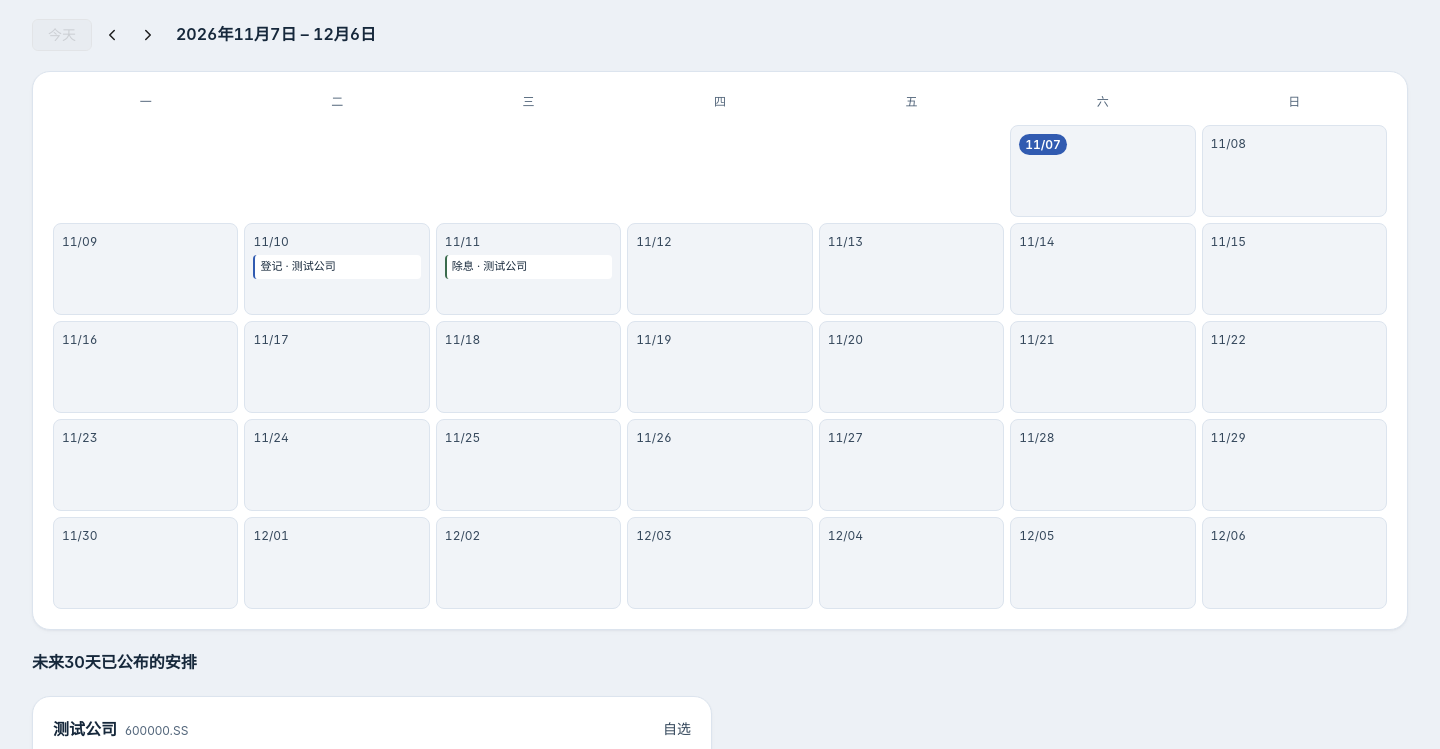
Test: shows a 30-day calendar, separates record/ex dates, and leaves payment dates unknown
Expected: the button with aria-label "2026-11-10，1项安排" is shown, [244,223,430,315]
Expected: the button with aria-label "2026-11-11，1项安排" is shown, [436,223,621,315]
Click the button named "2026-11-12，0项安排" at (720, 269), box [627,223,813,315]
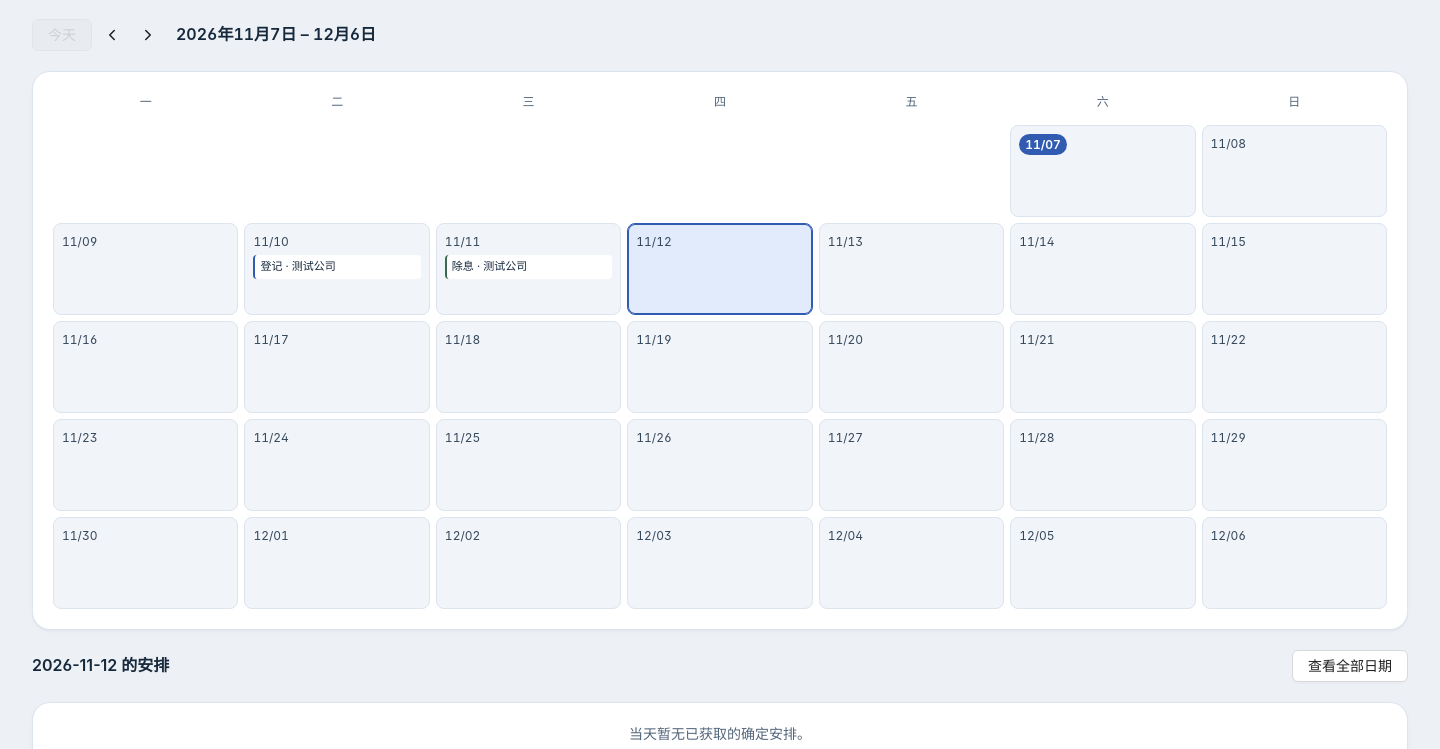
Click the button "查看全部日期" at (1350, 666), box [1292,650,1408,682]
(page scrolled)
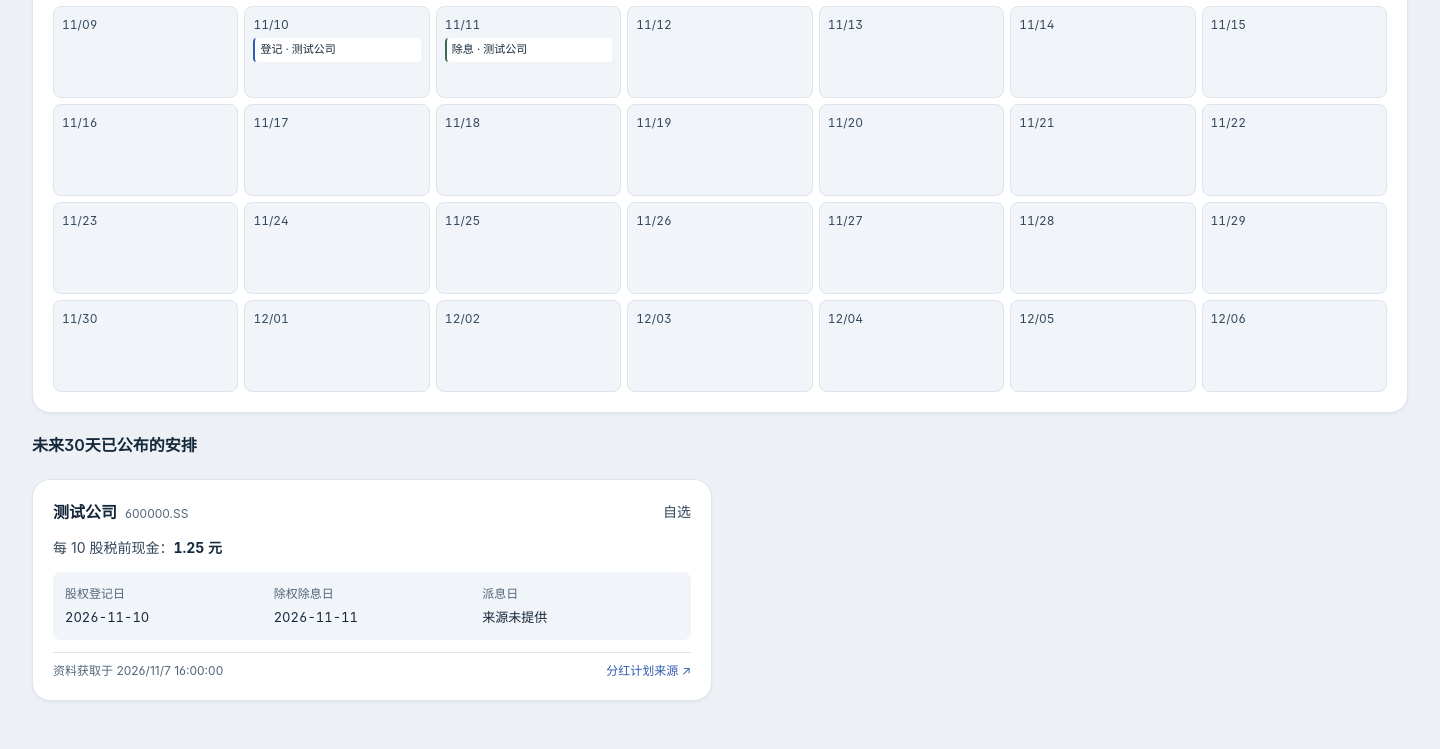
Expected: the text "1.25 元" is shown, [173,539,222,556]
